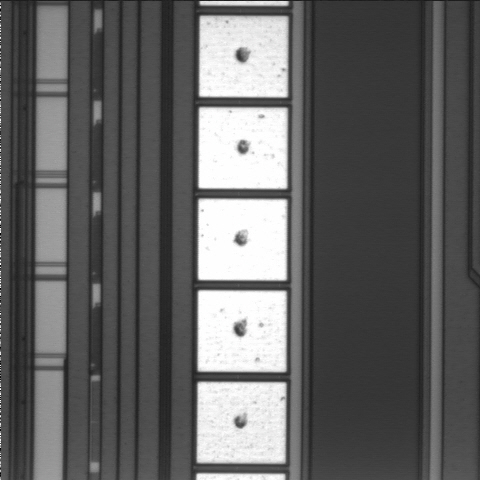pad: (198, 107, 288, 189), (198, 199, 287, 281), (198, 290, 287, 372), (199, 16, 288, 97), (197, 382, 286, 463)
